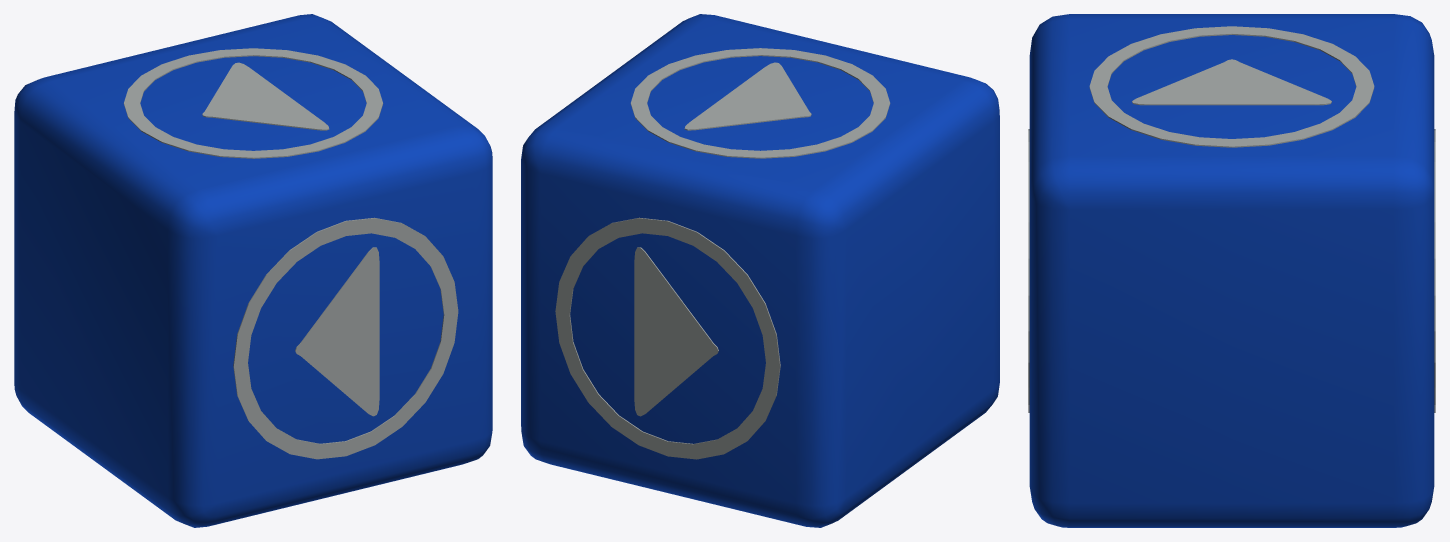
The picture shows the model from 3 angles, left to right: view 1: azimuth 30°, elevation 25°; view 2: azimuth 150°, elevation 25°; view 3: azimuth 270°, elevation 25°; orthographic projection. The views are drawn at different scales.
Visible parts, largest first — view 1: FK-03-1, FK-03-2; view 2: FK-03-1, FK-03-2; view 3: FK-03-1, FK-03-2.
Part boxes in pixels (x1=…): FK-03-1: x1=14, y1=14, x2=492, y2=527; FK-03-2: x1=123, y1=48, x2=458, y2=459; FK-03-1: x1=521, y1=14, x2=999, y2=527; FK-03-2: x1=555, y1=48, x2=890, y2=459; FK-03-1: x1=1029, y1=14, x2=1434, y2=527; FK-03-2: x1=1028, y1=26, x2=1435, y2=412.
Size of the model in its own units: 9.9 by 9.96 by 9.96.
